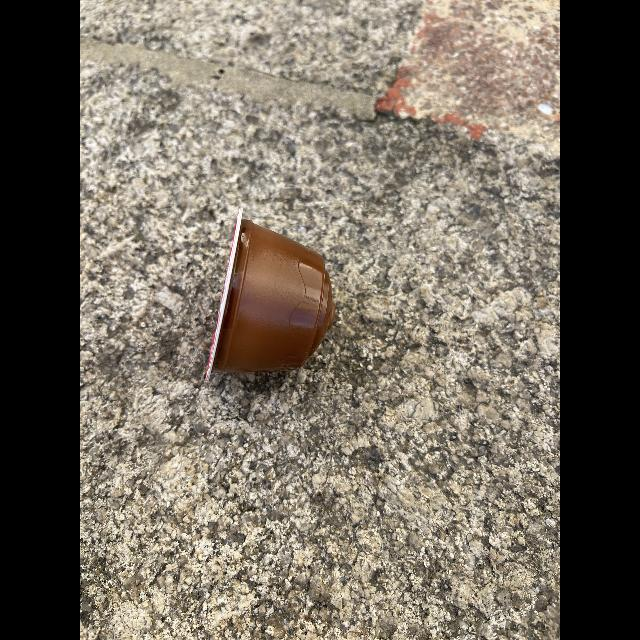intact_capsule: (190, 196, 360, 397)
